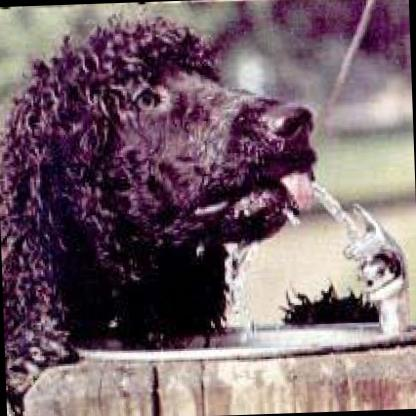Irish_water_spaniel: (0, 0, 333, 416)
